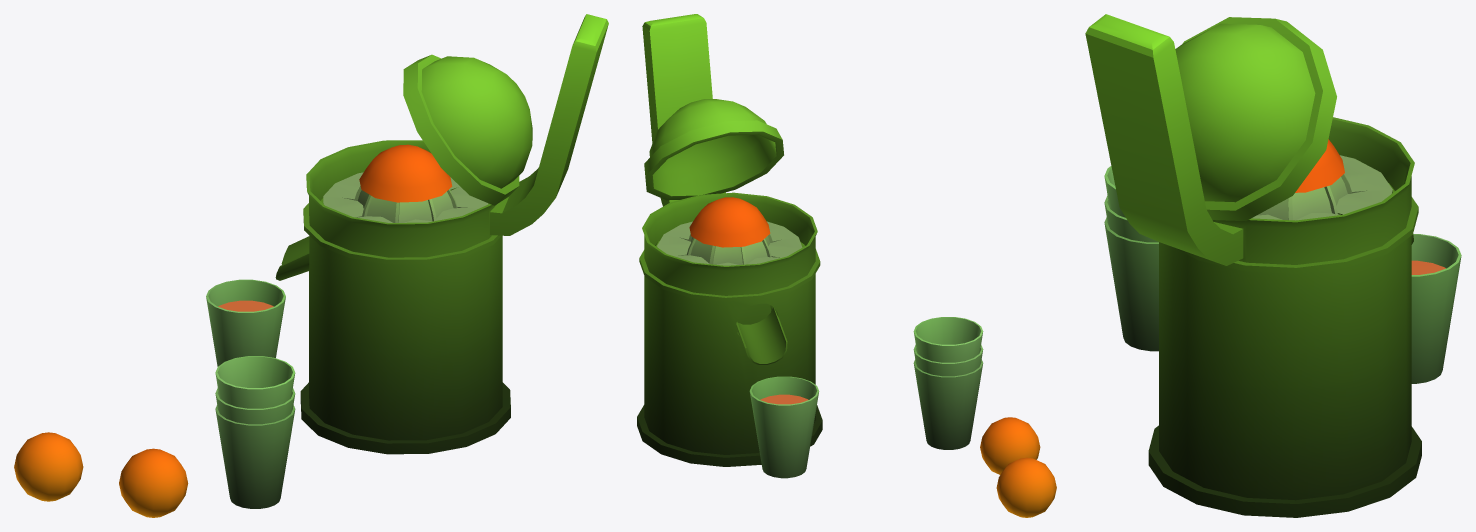
File: Orange_Machine_Tier_1.fbx
3 renders of one model, left to right at view 1: azimuth 30°, elevation 25°; view 2: azimuth 150°, elevation 25°; view 3: azimuth 270°, elevation 25°, orthographic. The views are drawn at different scales.
Parts seen in each view (by area): view 1: Orange_Machine, Orange; view 2: Orange_Machine, Orange; view 3: Orange_Machine, Orange.
Boxes of the visible parts, box(x1,y1,x2,y2) form: Orange_Machine: box(14, 14, 608, 517); Orange: box(359, 144, 452, 202); Orange_Machine: box(637, 14, 1056, 517); Orange: box(689, 197, 770, 247); Orange_Machine: box(1085, 14, 1461, 517); Orange: box(1295, 139, 1344, 192).
Size of the model in its own units: 1.5 by 1.09 by 0.7153.
